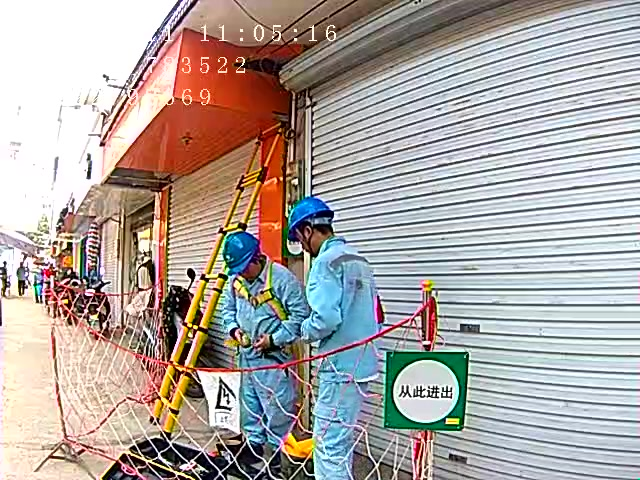badge: (374, 294, 385, 325)
downsuit: (235, 346, 299, 450), (308, 377, 363, 480)
halt: (286, 196, 335, 256)
hand: (250, 332, 269, 350), (234, 326, 244, 343)
inear: (295, 222, 315, 249), (251, 249, 268, 267)
intosign: (385, 348, 473, 434)
person: (283, 197, 379, 480), (222, 231, 308, 476)
safebelt: (227, 262, 297, 361)
upsuit: (303, 242, 381, 377), (223, 264, 304, 351)
worksign: (281, 226, 304, 258)
